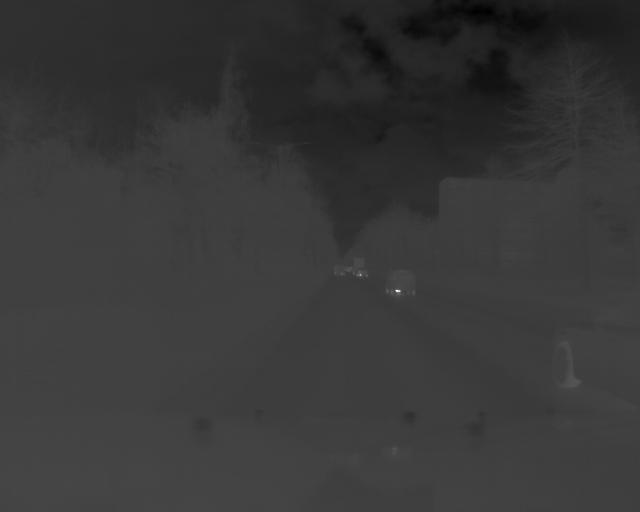car: (549, 288, 640, 395), (380, 268, 418, 297)
